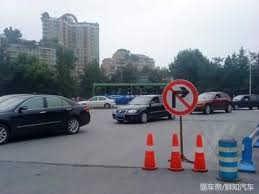No_right_turn: (161, 79, 197, 114)
